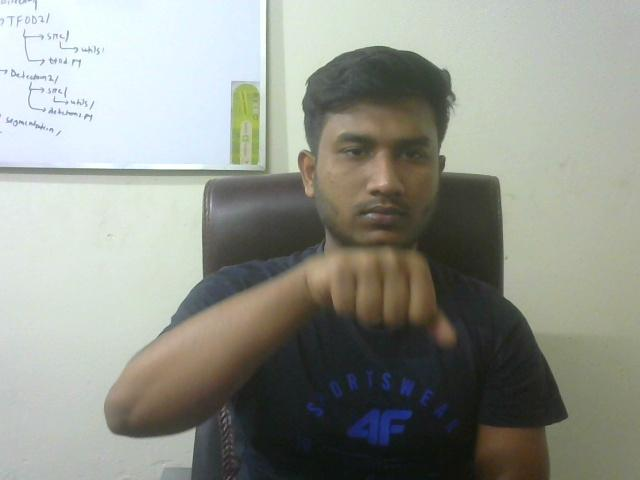Yes: (284, 230, 473, 368)
